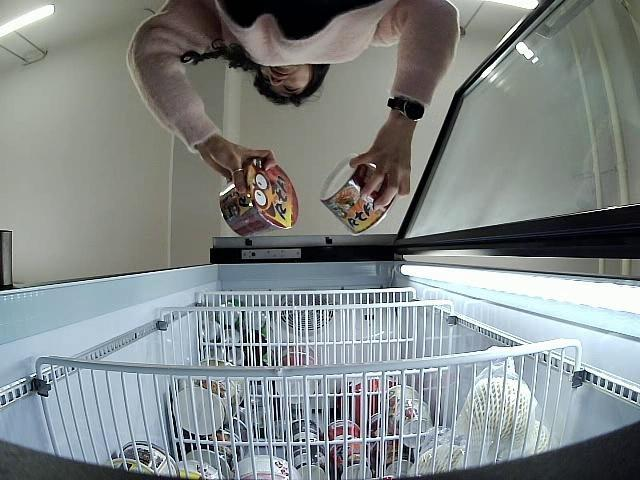05_nuguri_L: (218, 154, 300, 240), (318, 152, 401, 236)
